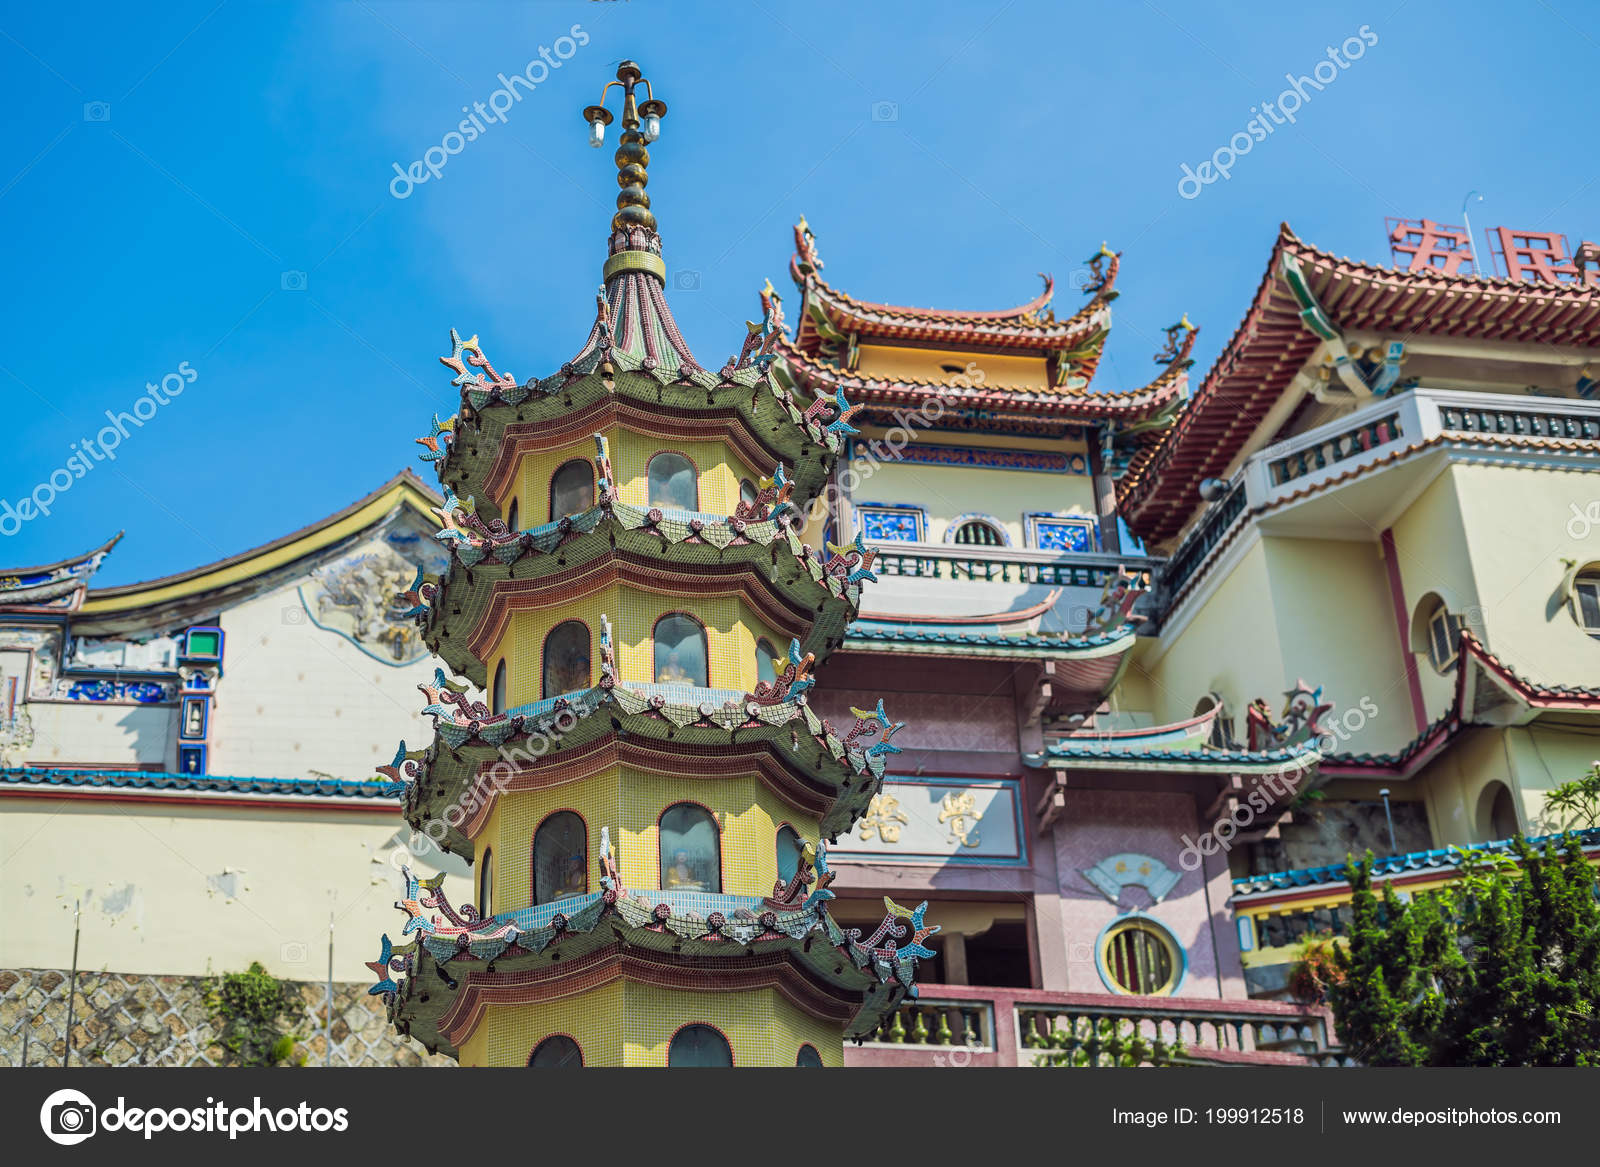Buddhist Temple: (390, 68, 862, 1046)
